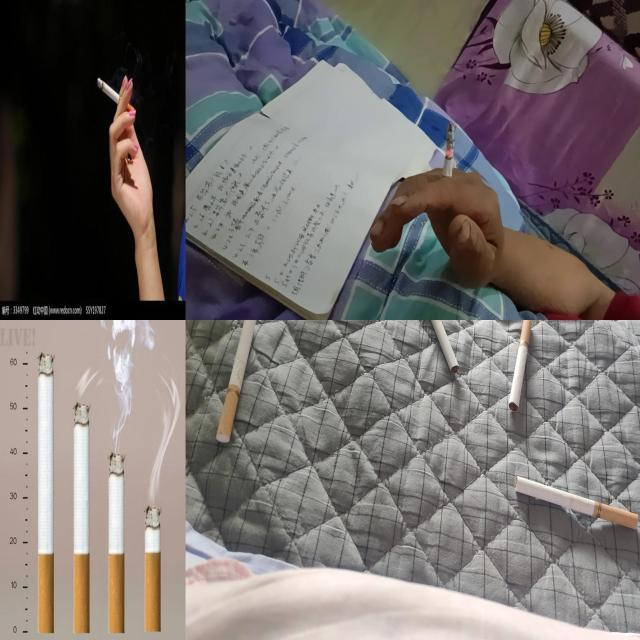smoking: (516, 476, 640, 530), (218, 320, 258, 444), (37, 352, 54, 634), (74, 402, 90, 634), (109, 452, 125, 634), (416, 320, 462, 376), (144, 506, 162, 633), (509, 320, 533, 412), (97, 76, 136, 115), (440, 124, 456, 190)
